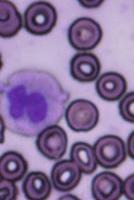N: (1, 68, 68, 136)
